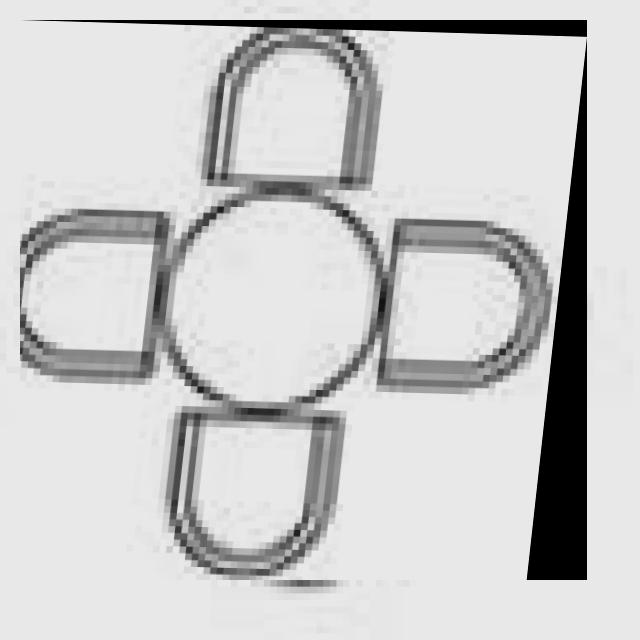table: (20, 20, 587, 580)
